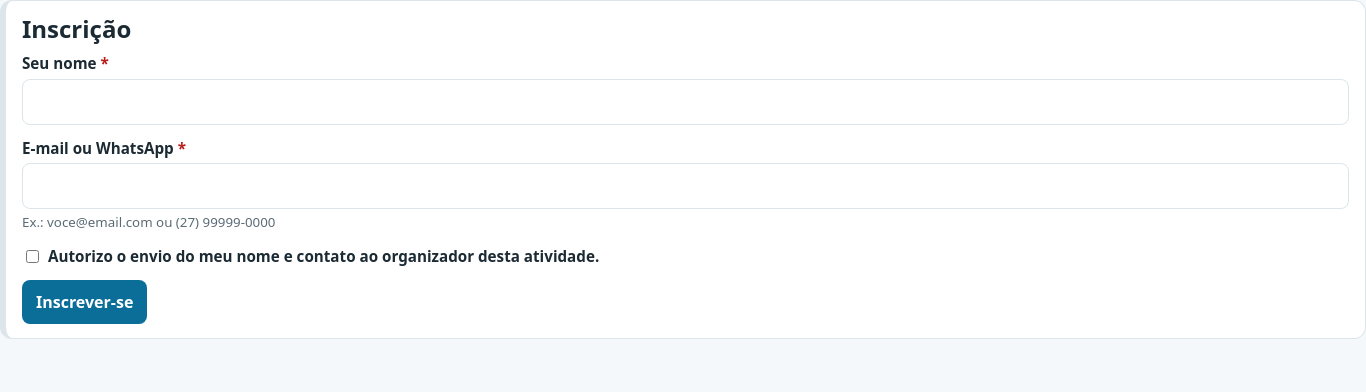
FormularioInscricao › vagas esgotadas durante o preenchimento atualizam a tela
In the field labelled "Seu nome *": (686, 102) [22, 79, 1349, 125], type "Bia Souza"
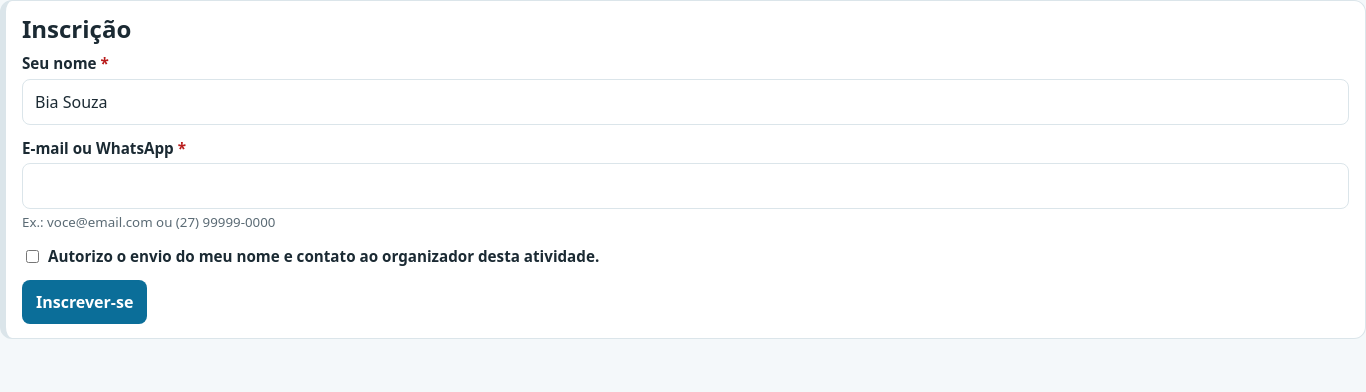
In the field labelled "E-mail ou WhatsApp *": (686, 186) [22, 163, 1349, 209], type "(27) 99999-1234"
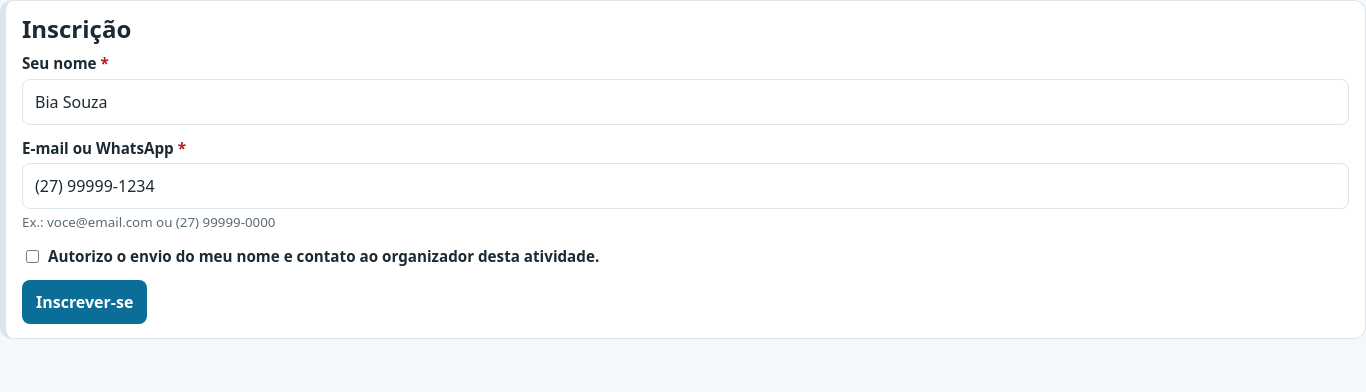
Click the checkbox labelled "Autorizo o envio": (32, 257) [26, 250, 39, 263]
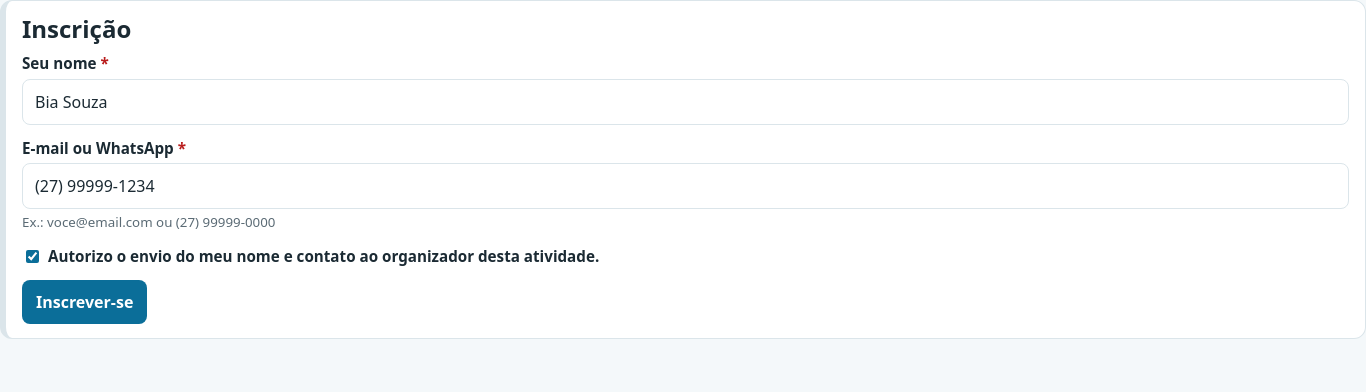
Click the button "Inscrever-se": (85, 302) [22, 280, 147, 324]
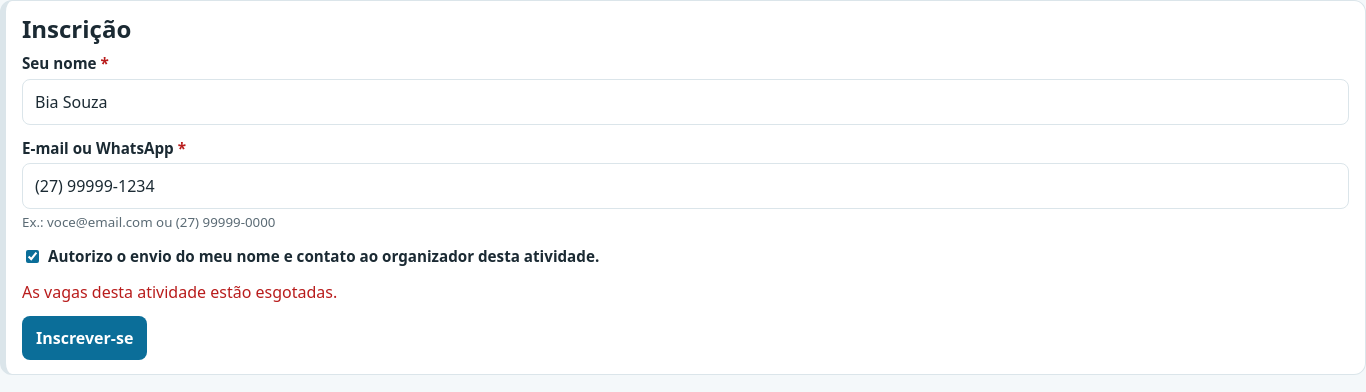
Result: the message shows "esgotadas" at [22, 281, 337, 303]
